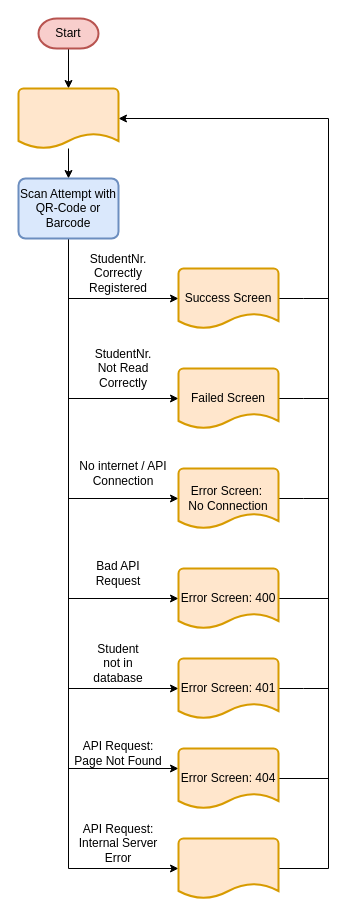
Some shapes in this 354 by 916 pixel diagram are drawn without their labels. The centre of each missing label's shape, as x and y in pixels:
"Error Screen: 500" belongs at [228,868].
"Home Screen" belongs at [68,118].
